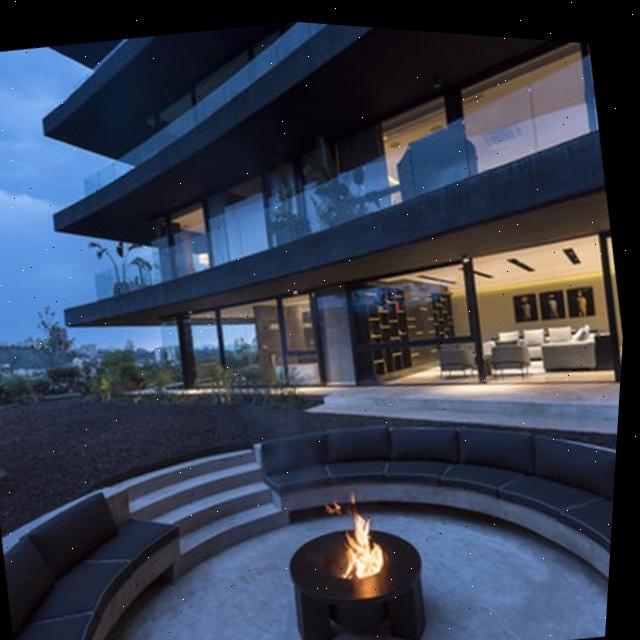building: (17, 3, 640, 472)
